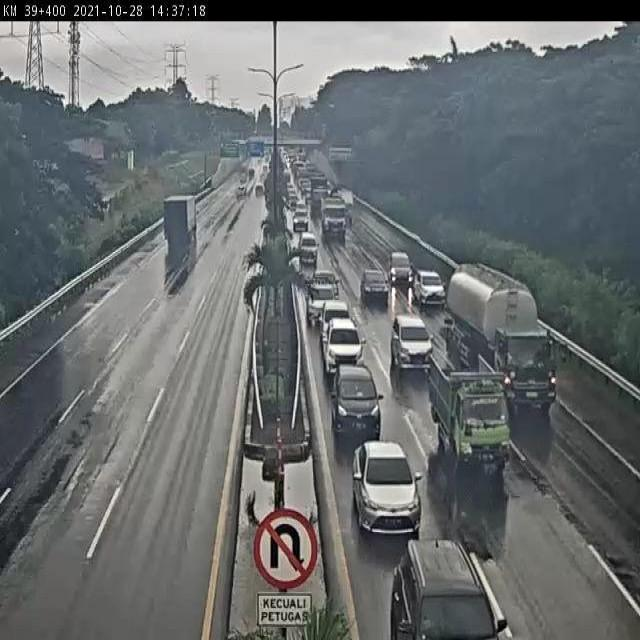big truck: (444, 263, 561, 412), (156, 196, 198, 252), (317, 192, 347, 244)
car: (393, 541, 506, 640), (352, 441, 425, 532), (329, 361, 383, 440), (323, 319, 368, 380), (390, 316, 438, 372), (320, 301, 354, 343), (411, 268, 447, 307), (308, 284, 336, 328), (359, 268, 389, 305), (387, 248, 411, 284), (312, 266, 339, 298), (299, 232, 319, 263), (292, 208, 311, 231)
small truck: (430, 343, 513, 472)
